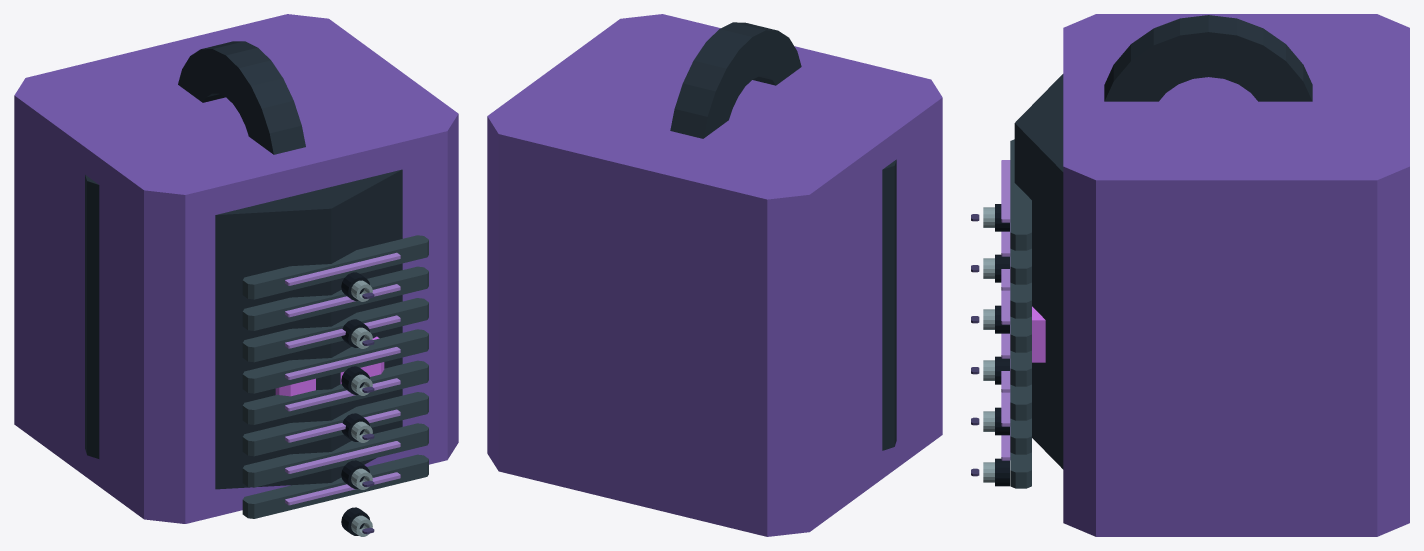
File: enemy_tank_4k_forearm_r.obj
3 renders of one model, left to right at view 1: azimuth 30°, elevation 25°; view 2: azimuth 150°, elevation 25°; view 3: azimuth 270°, elevation 25°, orthographic. The views are drawn at different scales.
Bounding box in the file's own units: 0.4268 × 0.5318 × 0.4685.
